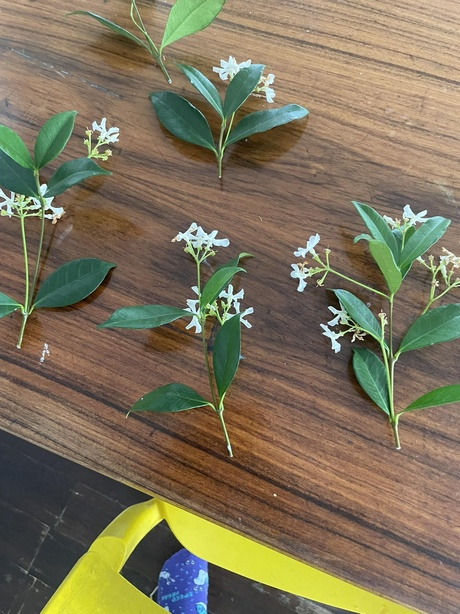leaf: (25, 255, 127, 315), (150, 93, 232, 167), (340, 339, 397, 422), (30, 98, 80, 171), (124, 385, 212, 421)
